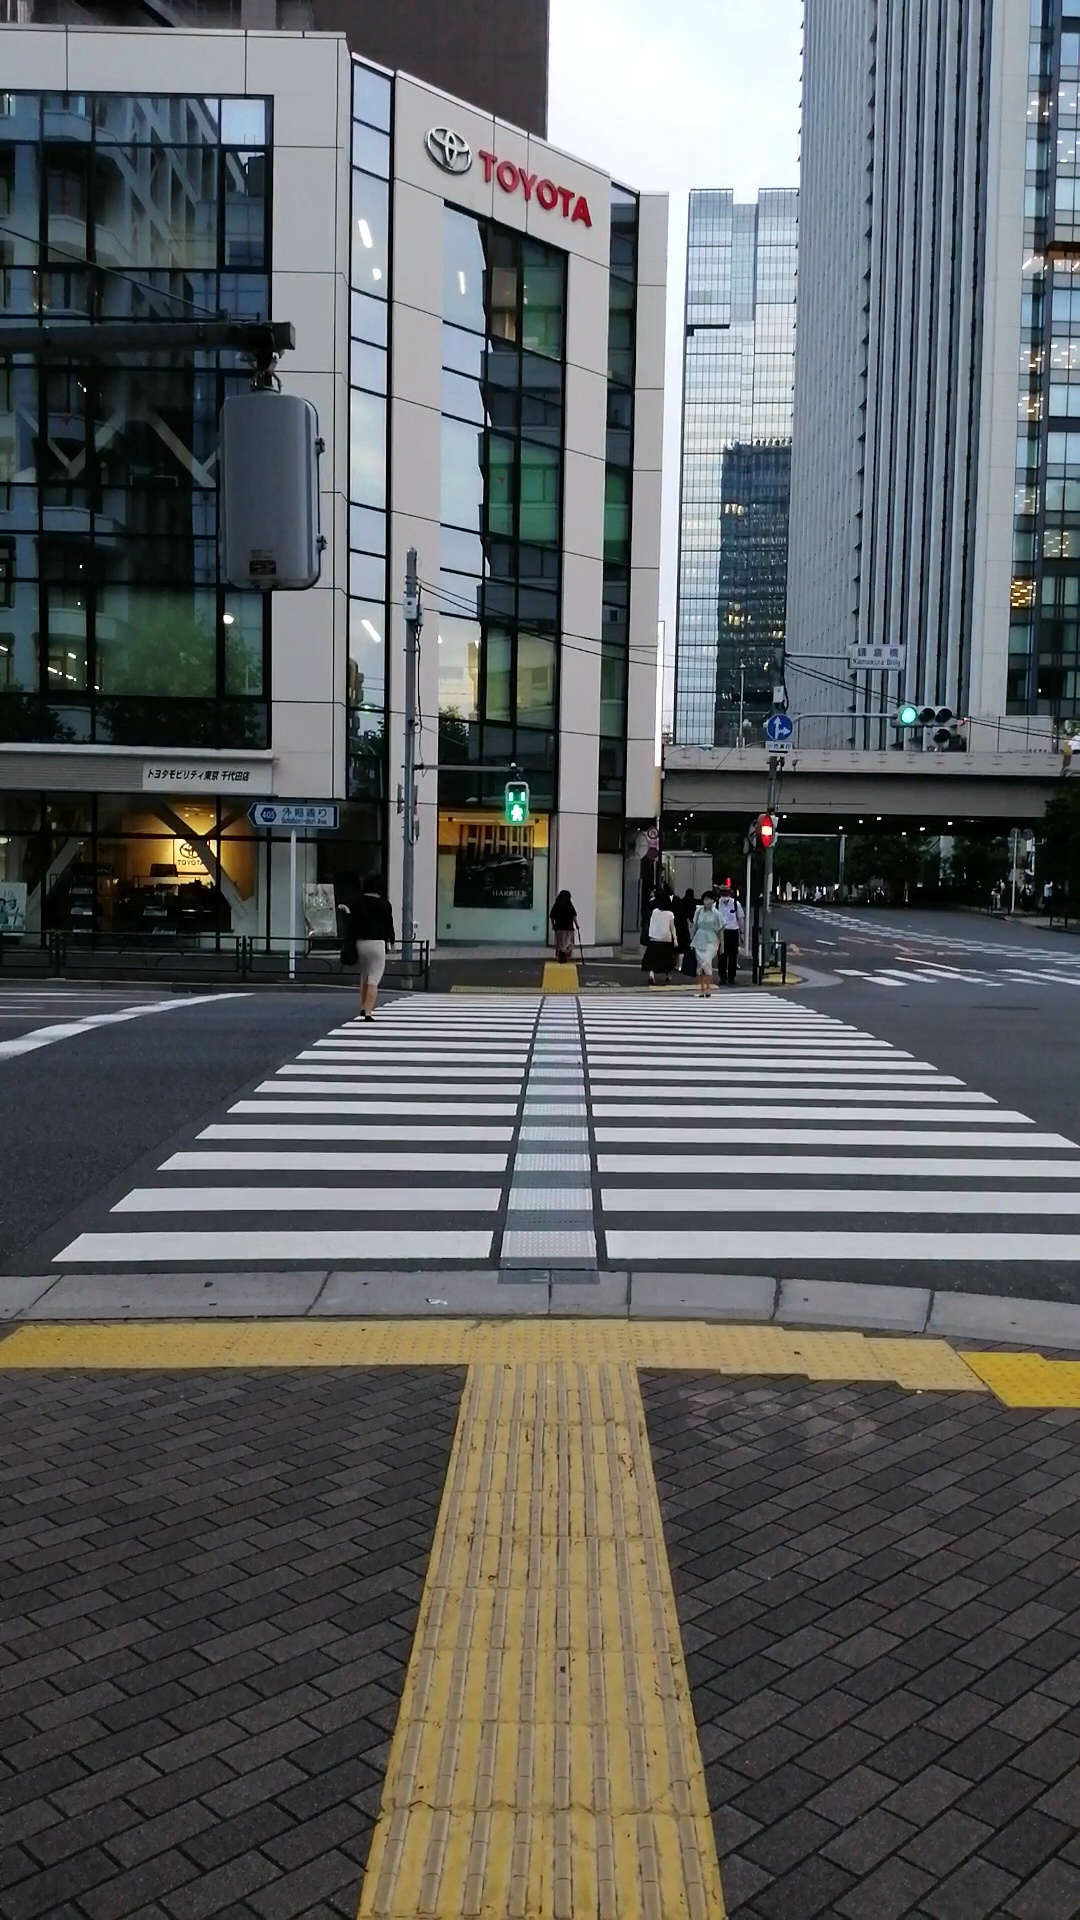green: (502, 778, 530, 824)
